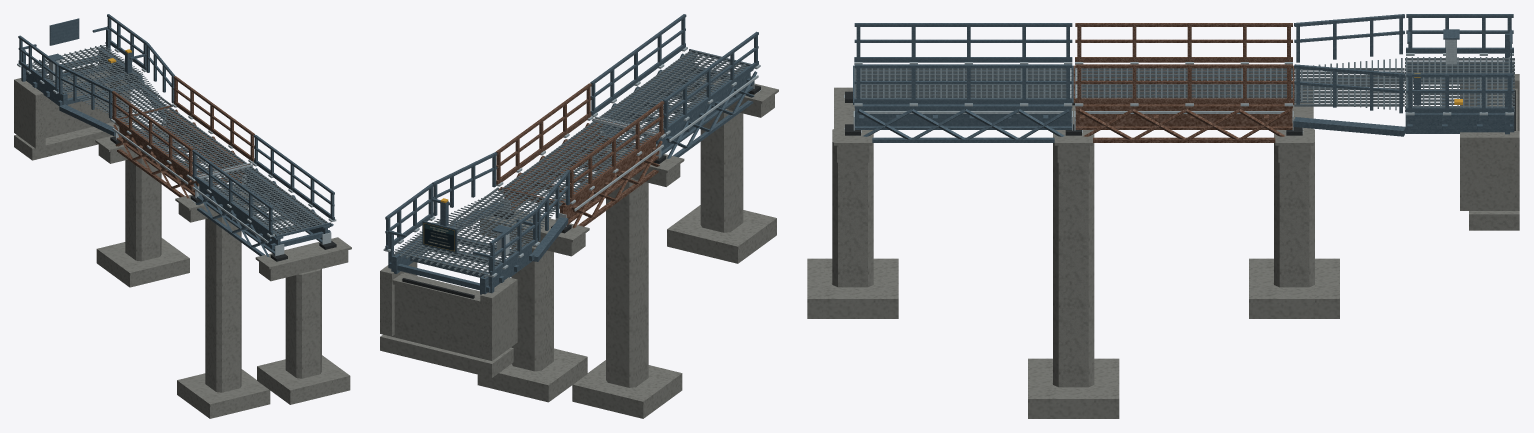
File: PZ_Caldera_18m_Assembled_Example.glb
3 renders of one model, left to right at view 1: azimuth 30°, elevation 25°; view 2: azimuth 150°, elevation 25°; view 3: azimuth 270°, elevation 25°, orthographic. The views are drawn at different scales.
Visible parts, largest first — view 1: EXAMPLE_SUPPORT_B_OCTAGONAL_REINFORCED_COLUMN, EXAMPLE_SUPPORT_A_OCTAGONAL_REINFORCED_COLUMN, EXAMPLE_SUPPORT_C_OCTAGONAL_REINFORCED_COLUMN, EXAMPLE_START_06M_WALKWAY_TRANSVERSE_SERRATED_CROSSBARS, EXAMPLE_SUPPORT_C_SPREAD_FOOTING, EXAMPLE_SUPPORT_B_SPREAD_FOOTING, EXAMPLE_SUPPORT_A_SPREAD_FOOTING, EXAMPLE_MID_06M_WALKWAY_TRANSVERSE_SERRATED_CROSSBARS, EXAMPLE_END_ABUTMENT_SIDE_CHEEK_L, EXAMPLE_INSPECTION_03M_GRATE_TRANSVERSE_BARS, EXAMPLE_END_ABUTMENT_CONCRETE_END_WALL, EXAMPLE_START_06M_WALKWAY_LONGITUDINAL_BEARER_BARS (+38 smaller); view 2: EXAMPLE_SUPPORT_B_OCTAGONAL_REINFORCED_COLUMN, EXAMPLE_END_ABUTMENT_CONCRETE_END_WALL, EXAMPLE_SUPPORT_A_OCTAGONAL_REINFORCED_COLUMN, EXAMPLE_SUPPORT_C_OCTAGONAL_REINFORCED_COLUMN, EXAMPLE_SUPPORT_B_SPREAD_FOOTING, EXAMPLE_SUPPORT_A_SPREAD_FOOTING, EXAMPLE_START_06M_WALKWAY_TRANSVERSE_SERRATED_CROSSBARS, EXAMPLE_MID_06M_WALKWAY_TRANSVERSE_SERRATED_CROSSBARS, EXAMPLE_SUPPORT_C_SPREAD_FOOTING, EXAMPLE_END_ABUTMENT_SIDE_CHEEK_L, EXAMPLE_END_ABUTMENT_PEDESTAL_BASE, EXAMPLE_INSPECTION_03M_GRATE_TRANSVERSE_BARS (+47 smaller); view 3: EXAMPLE_SUPPORT_B_OCTAGONAL_REINFORCED_COLUMN, EXAMPLE_SUPPORT_A_OCTAGONAL_REINFORCED_COLUMN, EXAMPLE_SUPPORT_C_OCTAGONAL_REINFORCED_COLUMN, EXAMPLE_START_06M_WALKWAY_LONGITUDINAL_BEARER_BARS, EXAMPLE_END_ABUTMENT_SIDE_CHEEK_R, EXAMPLE_MID_06M_WALKWAY_LONGITUDINAL_BEARER_BARS, EXAMPLE_SUPPORT_A_SPREAD_FOOTING, EXAMPLE_SUPPORT_B_SPREAD_FOOTING, EXAMPLE_SUPPORT_C_SPREAD_FOOTING, EXAMPLE_INSPECTION_03M_GRATE_LONGITUDINAL_RUNNERS, EXAMPLE_WIDEN_03M_CENTRAL_LONGITUDINAL_GRATE_RUNNERS, EXAMPLE_MID_06M_RIGHT_LONGITUDINAL_I_BEAM_WEB (+38 smaller).
Boxes of the visible parts, x1,y1,x2,y2 form: EXAMPLE_SUPPORT_B_OCTAGONAL_REINFORCED_COLUMN: (205, 217, 241, 392); EXAMPLE_SUPPORT_A_OCTAGONAL_REINFORCED_COLUMN: (285, 268, 321, 378); EXAMPLE_SUPPORT_C_OCTAGONAL_REINFORCED_COLUMN: (125, 158, 161, 261); EXAMPLE_START_06M_WALKWAY_TRANSVERSE_SERRATED_CROSSBARS: (200, 166, 328, 235); EXAMPLE_SUPPORT_C_SPREAD_FOOTING: (96, 238, 189, 287); EXAMPLE_SUPPORT_B_SPREAD_FOOTING: (177, 369, 270, 418); EXAMPLE_SUPPORT_A_SPREAD_FOOTING: (257, 355, 350, 404); EXAMPLE_MID_06M_WALKWAY_TRANSVERSE_SERRATED_CROSSBARS: (120, 107, 248, 176); EXAMPLE_END_ABUTMENT_SIDE_CHEEK_L: (14, 78, 45, 148); EXAMPLE_INSPECTION_03M_GRATE_TRANSVERSE_BARS: (26, 45, 142, 92); EXAMPLE_END_ABUTMENT_CONCRETE_END_WALL: (45, 72, 111, 137); EXAMPLE_START_06M_WALKWAY_LONGITUDINAL_BEARER_BARS: (204, 166, 327, 236); EXAMPLE_SUPPORT_B_OCTAGONAL_REINFORCED_COLUMN: (606, 178, 648, 387); EXAMPLE_END_ABUTMENT_CONCRETE_END_WALL: (392, 273, 482, 358); EXAMPLE_SUPPORT_A_OCTAGONAL_REINFORCED_COLUMN: (700, 109, 743, 232); EXAMPLE_SUPPORT_C_OCTAGONAL_REINFORCED_COLUMN: (511, 244, 553, 371); EXAMPLE_SUPPORT_B_SPREAD_FOOTING: (572, 360, 682, 418); EXAMPLE_SUPPORT_A_SPREAD_FOOTING: (667, 205, 776, 263); EXAMPLE_START_06M_WALKWAY_TRANSVERSE_SERRATED_CROSSBARS: (599, 50, 750, 131); EXAMPLE_MID_06M_WALKWAY_TRANSVERSE_SERRATED_CROSSBARS: (504, 121, 653, 201); EXAMPLE_SUPPORT_C_SPREAD_FOOTING: (477, 348, 587, 402); EXAMPLE_END_ABUTMENT_SIDE_CHEEK_L: (480, 277, 517, 360); EXAMPLE_END_ABUTMENT_PEDESTAL_BASE: (380, 334, 513, 377); EXAMPLE_INSPECTION_03M_GRATE_TRANSVERSE_BARS: (392, 219, 530, 274); EXAMPLE_SUPPORT_B_OCTAGONAL_REINFORCED_COLUMN: (1053, 130, 1094, 387); EXAMPLE_SUPPORT_A_OCTAGONAL_REINFORCED_COLUMN: (832, 129, 873, 287); EXAMPLE_SUPPORT_C_OCTAGONAL_REINFORCED_COLUMN: (1274, 129, 1314, 287); EXAMPLE_START_06M_WALKWAY_LONGITUDINAL_BEARER_BARS: (855, 68, 1072, 98); EXAMPLE_END_ABUTMENT_SIDE_CHEEK_R: (1460, 131, 1519, 210); EXAMPLE_MID_06M_WALKWAY_LONGITUDINAL_BEARER_BARS: (1082, 68, 1292, 98); EXAMPLE_SUPPORT_A_SPREAD_FOOTING: (807, 258, 898, 318); EXAMPLE_SUPPORT_B_SPREAD_FOOTING: (1028, 358, 1119, 418); EXAMPLE_SUPPORT_C_SPREAD_FOOTING: (1249, 258, 1339, 318); EXAMPLE_INSPECTION_03M_GRATE_LONGITUDINAL_RUNNERS: (1405, 58, 1514, 111); EXAMPLE_WIDEN_03M_CENTRAL_LONGITUDINAL_GRATE_RUNNERS: (1294, 68, 1404, 106); EXAMPLE_MID_06M_RIGHT_LONGITUDINAL_I_BEAM_WEB: (1075, 108, 1292, 126).
Bounding box in the file's own units: 4.1 × 10.78 × 19.36.
Materials: 8 (8 with a texture image).
